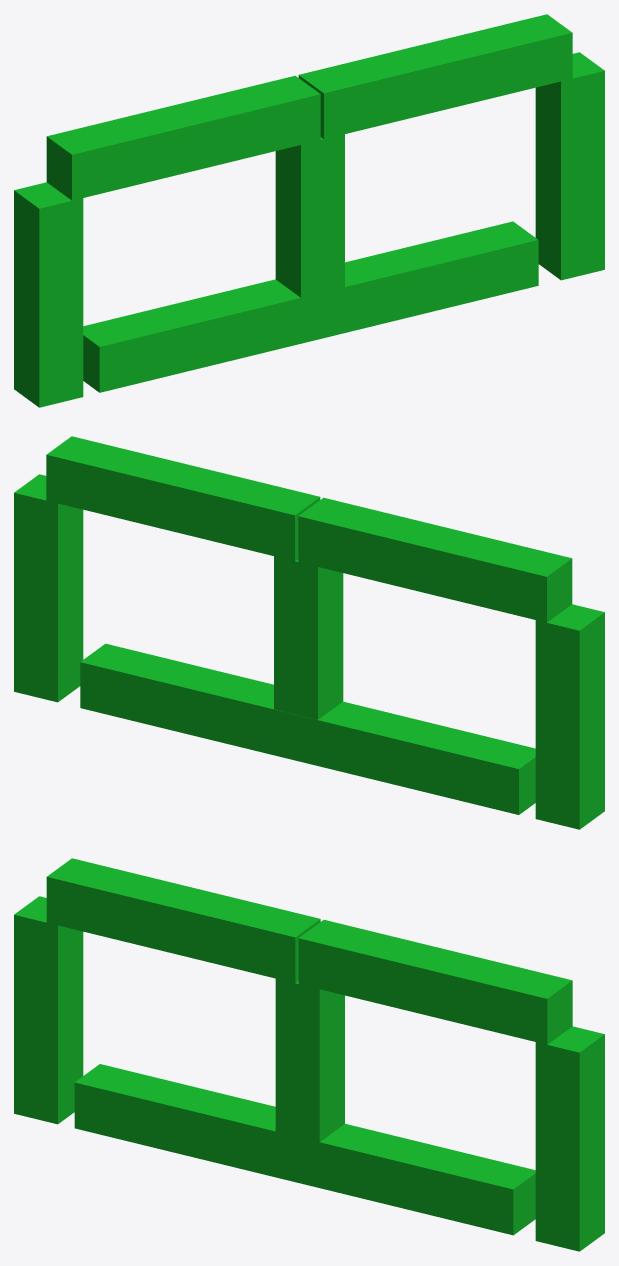
Rendered from Dynamic_1kg_0_5friction.fbx.
3 views of the same model, one above another, from view 1: azimuth 30°, elevation 25°; view 2: azimuth 150°, elevation 25°; view 3: azimuth 330°, elevation 25° (orthographic).
Visible parts, largest first — view 1: D1DynamicBox1, D1DynamicBox6, D1DynamicBox5, D1DynamicBox3, D1DynamicBox4, D1DynamicBox2; view 2: D1DynamicBox1, D1DynamicBox6, D1DynamicBox5, D1DynamicBox3, D1DynamicBox4, D1DynamicBox2; view 3: D1DynamicBox1, D1DynamicBox5, D1DynamicBox6, D1DynamicBox4, D1DynamicBox3, D1DynamicBox2.
Part boxes in pixels (x1=…): D1DynamicBox1: x1=83, y1=221, x2=538, y2=392; D1DynamicBox6: x1=46, y1=75, x2=320, y2=200; D1DynamicBox5: x1=298, y1=14, x2=572, y2=139; D1DynamicBox3: x1=14, y1=182, x2=83, y2=407; D1DynamicBox4: x1=535, y1=52, x2=604, y2=280; D1DynamicBox2: x1=275, y1=134, x2=344, y2=297; D1DynamicBox1: x1=80, y1=643, x2=535, y2=814; D1DynamicBox6: x1=298, y1=497, x2=572, y2=622; D1DynamicBox5: x1=46, y1=436, x2=320, y2=561; D1DynamicBox3: x1=535, y1=604, x2=604, y2=829; D1DynamicBox4: x1=14, y1=474, x2=83, y2=702; D1DynamicBox2: x1=274, y1=556, x2=343, y2=719; D1DynamicBox1: x1=74, y1=1064, x2=535, y2=1235; D1DynamicBox5: x1=298, y1=920, x2=572, y2=1044; D1DynamicBox6: x1=46, y1=858, x2=320, y2=983; D1DynamicBox4: x1=535, y1=1026, x2=604, y2=1251; D1DynamicBox3: x1=14, y1=896, x2=83, y2=1124; D1DynamicBox2: x1=275, y1=978, x2=344, y2=1142.
Size of what is drawn, in the model's own units: 38.67 by 16 by 3.02.
